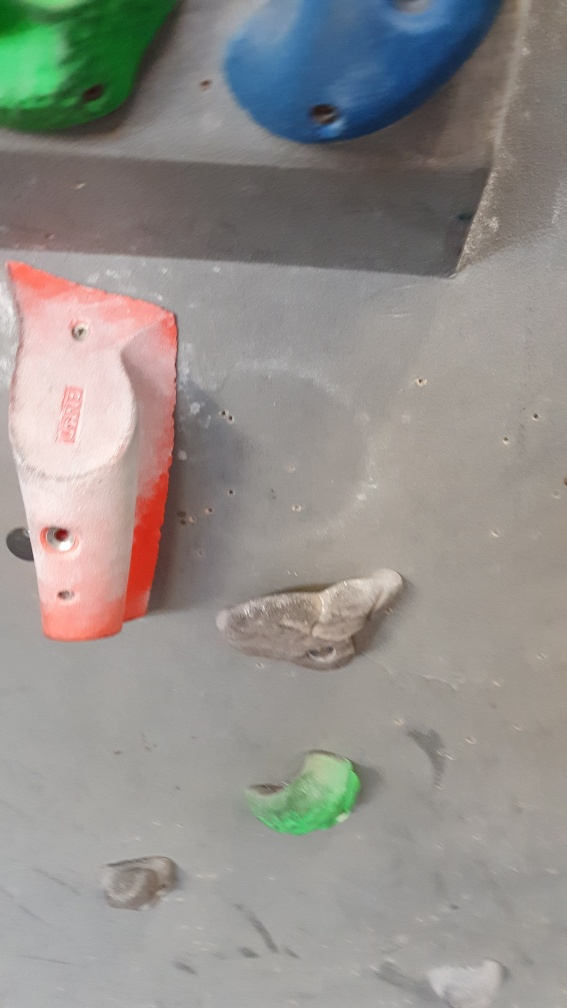Hand Start: (1, 520, 41, 570)
Jug: (215, 563, 410, 676), (242, 742, 362, 834)
Pinch: (5, 252, 187, 642)
